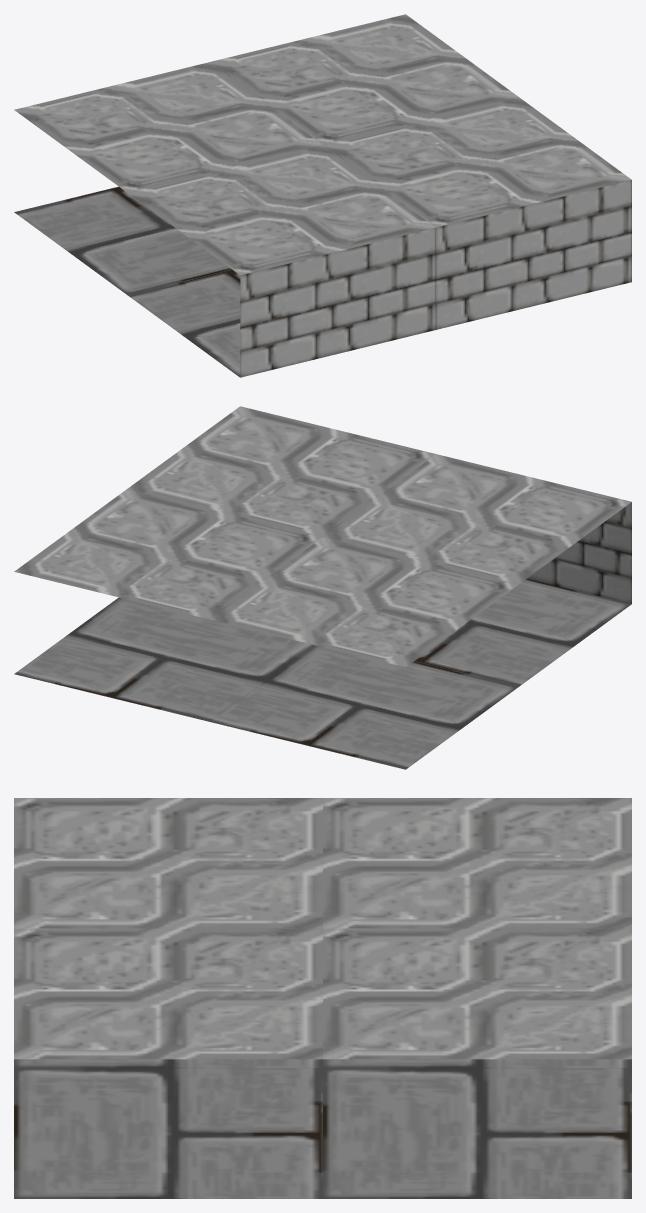
File: stoneConnectedFloorCeiling.fbx
3 renders of one model, top to bottom at view 1: azimuth 30°, elevation 25°; view 2: azimuth 150°, elevation 25°; view 3: azimuth 270°, elevation 25°, orthographic. The views are drawn at different scales.
Visible parts, largest first — view 1: StonePlatformFull; view 2: StonePlatformFull; view 3: StonePlatformFull.
Boxes of the visible parts, x1=… form: StonePlatformFull: x1=14, y1=14, x2=631, y2=377; StonePlatformFull: x1=14, y1=406, x2=631, y2=769; StonePlatformFull: x1=14, y1=798, x2=631, y2=1198.
Bounding box in the file's own units: 200 × 49.93 × 200.
Materials: 1 (1 with a texture image).
